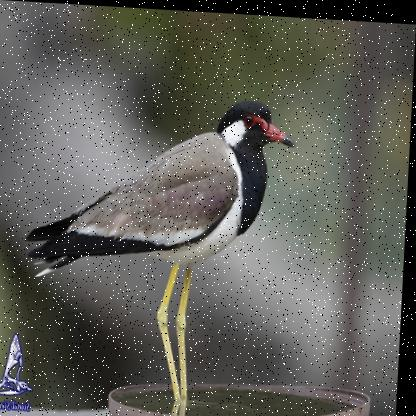Burung: (58, 88, 300, 403)
